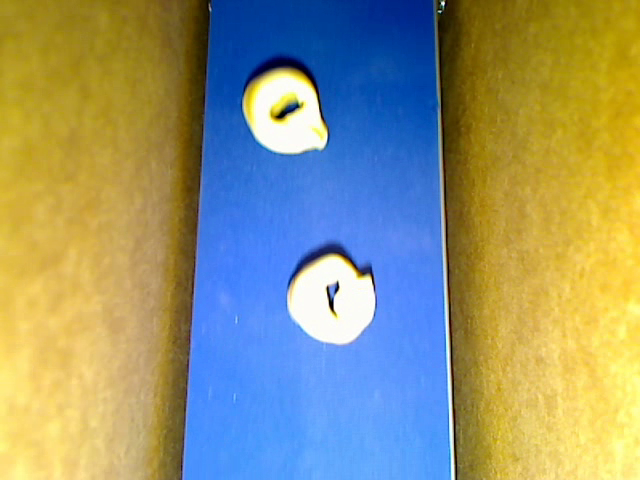tortellini: (286, 253, 377, 344), (242, 67, 329, 155)
